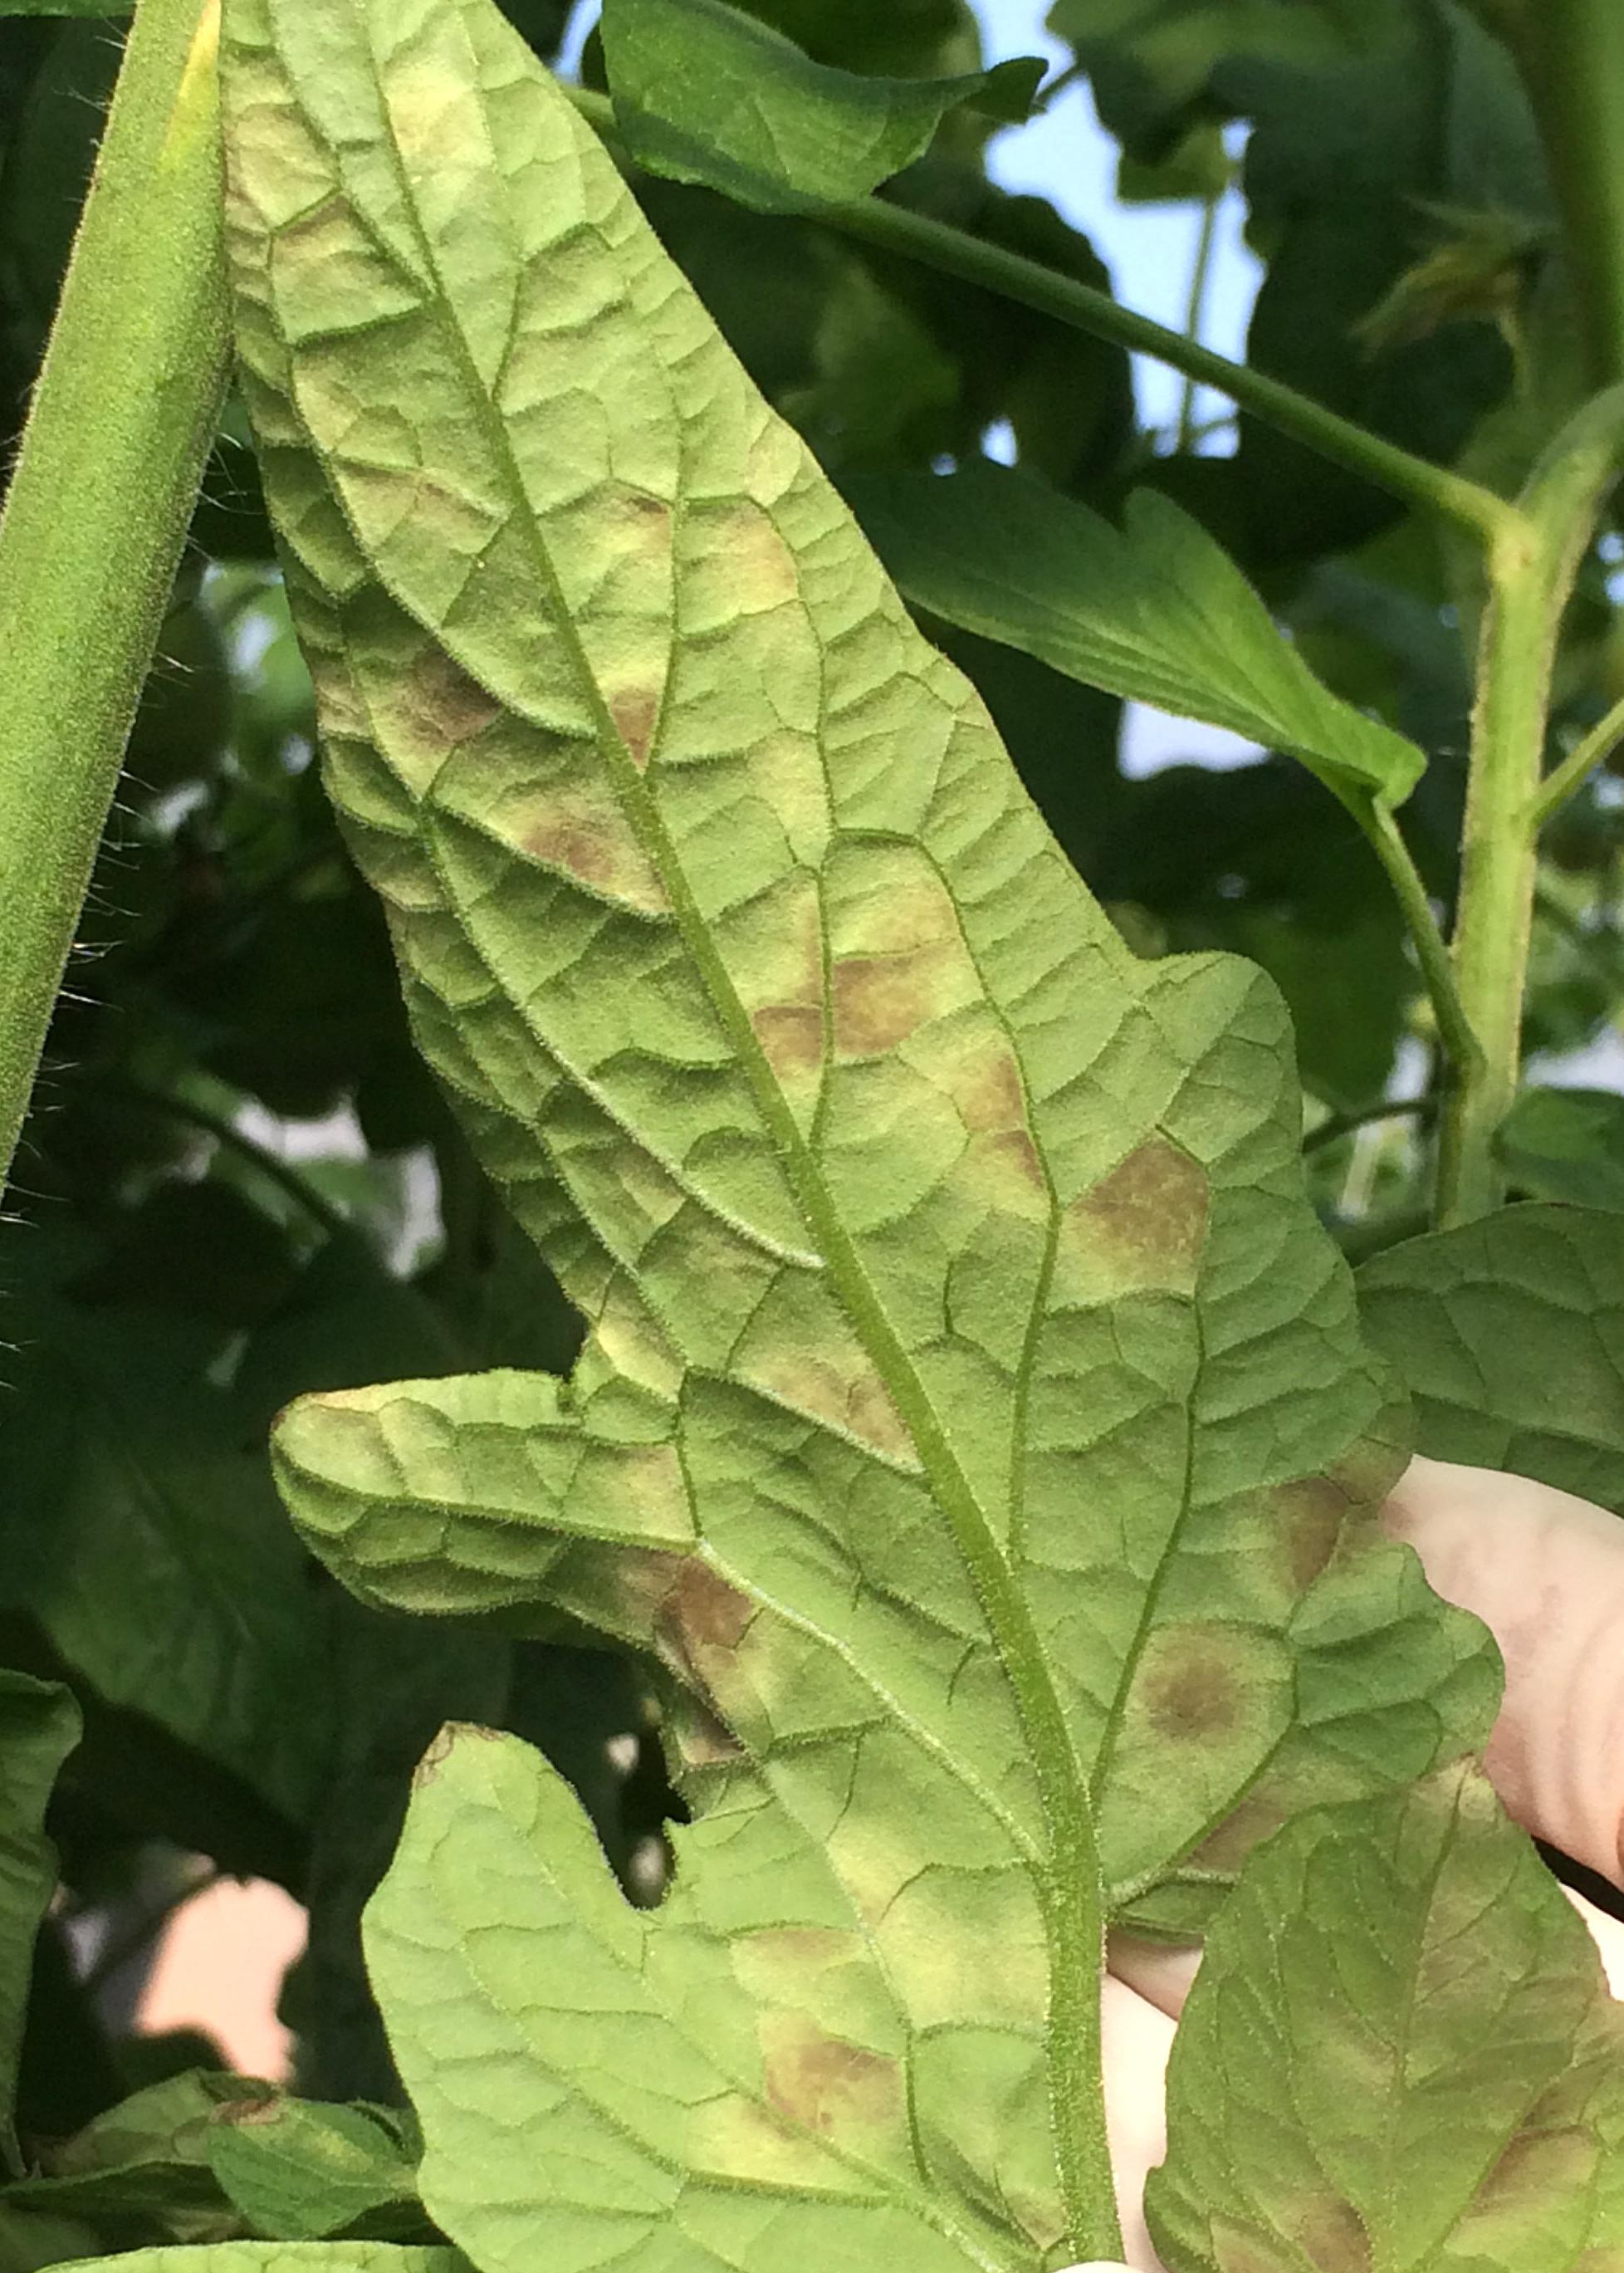Tomato mold leaf: (204, 12, 1545, 2273)
